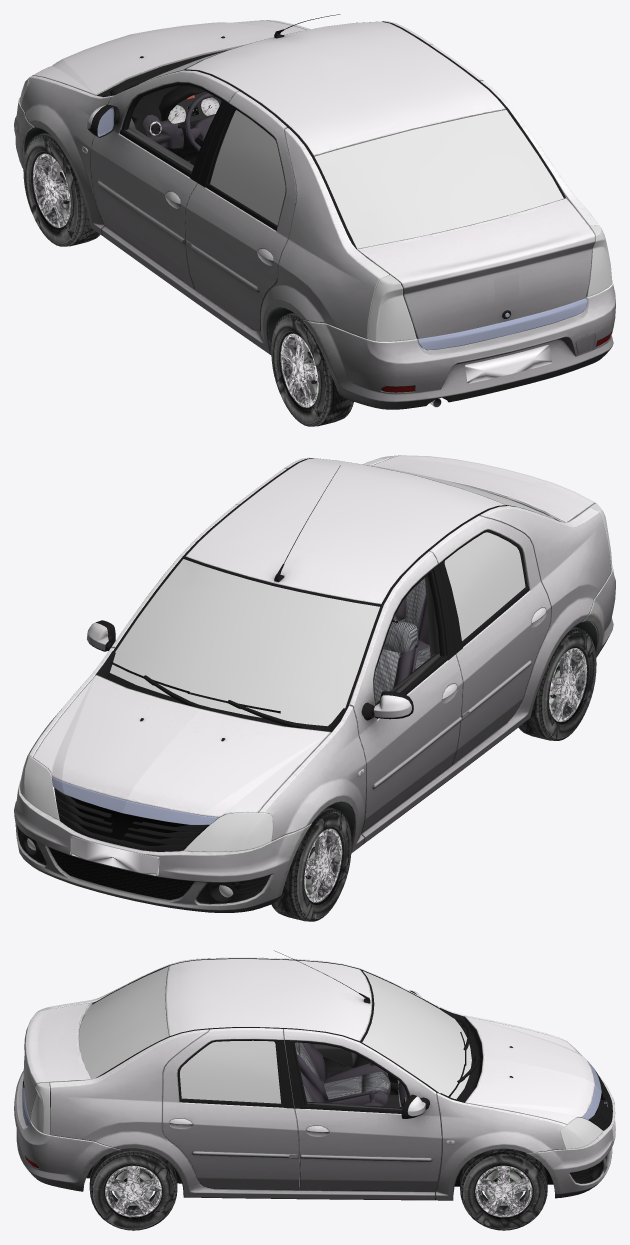
File: dacor_logen.glb
The picture shows the model from 3 angles, top to bottom: view 1: azimuth 30°, elevation 25°; view 2: azimuth 150°, elevation 25°; view 3: azimuth 270°, elevation 25°; orthographic projection. The views are drawn at different scales.
Visible parts, largest first — view 1: Body_paint, Body_glass, Body_orig_Misc1Mtl, Wheel_RL_orig_Wheelrb1Mtl, Wheel_FL_orig_Wheelrb1Mtl, Body_orig_Interior1Mtl; view 2: Body_paint, Body_glass, Body_orig_Misc1Mtl, Body_orig_Interior1Mtl, Wheel_FL_orig_Wheelrb1Mtl, Wheel_RL_orig_Wheelrb1Mtl; view 3: Body_paint, Body_glass, Body_orig_Misc1Mtl, Wheel_RR_orig_Wheelrb1Mtl, Wheel_FR_orig_Wheelrb1Mtl, Body_orig_Interior1Mtl.
Boxes of the visible parts, x1,y1,x2,y2 form: Body_paint: (14, 20, 615, 409); Body_glass: (19, 51, 612, 341); Body_orig_Misc1Mtl: (82, 14, 587, 406); Wheel_RL_orig_Wheelrb1Mtl: (271, 312, 353, 426); Wheel_FL_orig_Wheelrb1Mtl: (23, 132, 100, 246); Body_orig_Interior1Mtl: (167, 91, 551, 383); Body_paint: (14, 455, 615, 912); Body_glass: (19, 455, 612, 897); Body_orig_Misc1Mtl: (16, 458, 541, 903); Body_orig_Interior1Mtl: (48, 578, 430, 899); Wheel_FL_orig_Wheelrb1Mtl: (271, 807, 351, 921); Wheel_RL_orig_Wheelrb1Mtl: (518, 626, 596, 740); Body_paint: (14, 957, 615, 1200); Body_glass: (30, 966, 602, 1149); Body_orig_Misc1Mtl: (22, 950, 612, 1189); Wheel_RR_orig_Wheelrb1Mtl: (89, 1149, 177, 1230); Wheel_FR_orig_Wheelrb1Mtl: (460, 1149, 547, 1230); Body_orig_Interior1Mtl: (295, 1042, 615, 1158).
Bounding box in the file's own units: 1.99 × 1.82 × 4.29.
Materials: 9 (8 with a texture image).
